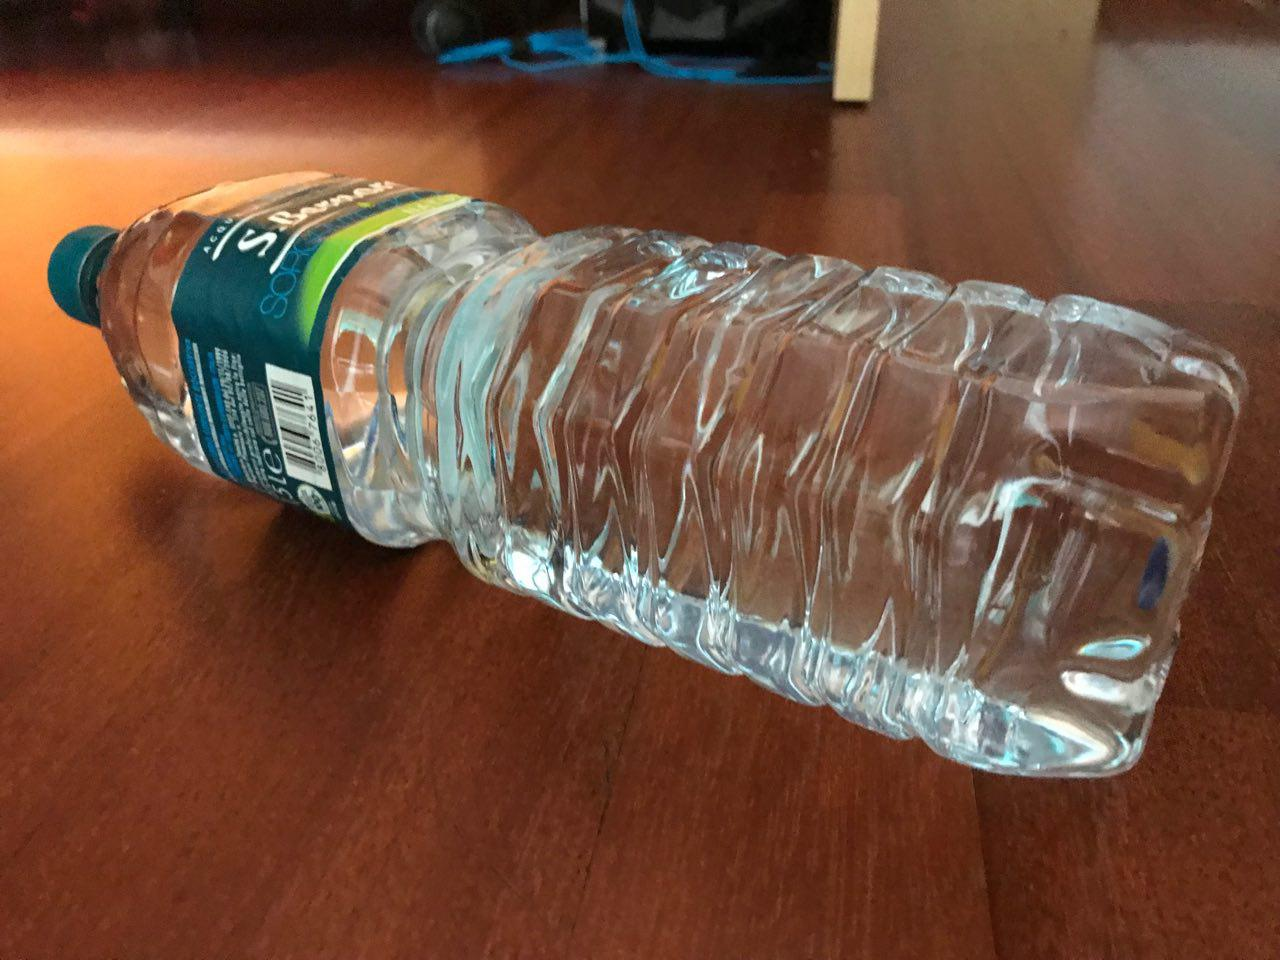san_bernardo: (46, 166, 1251, 781)
